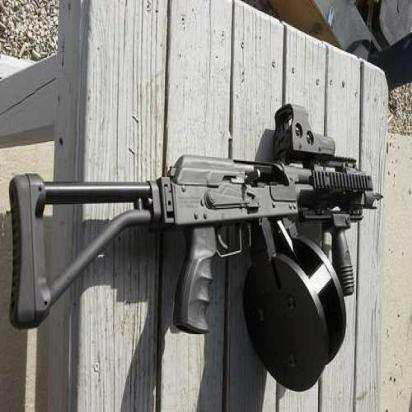Gun: (5, 101, 387, 396)
